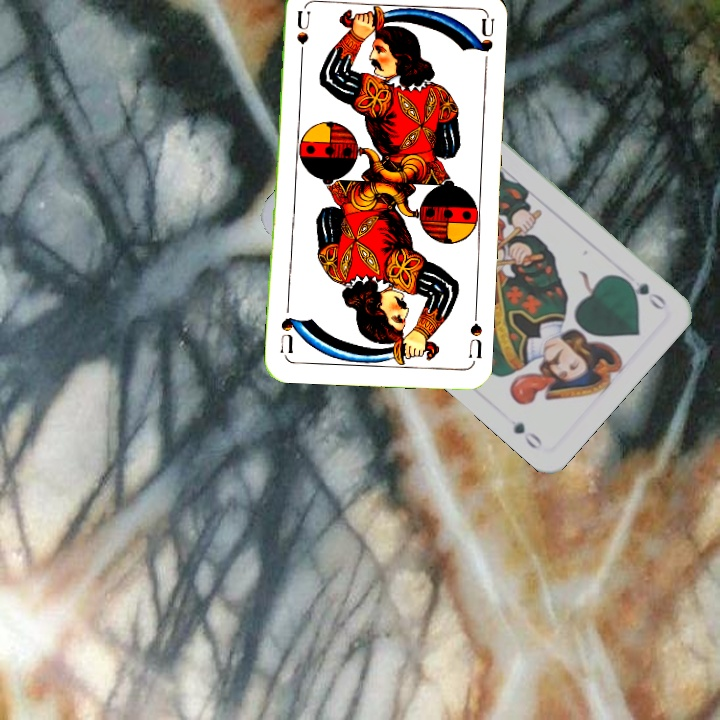GO: (618, 273, 670, 313)
SU: (293, 8, 313, 67), (464, 305, 485, 361)
